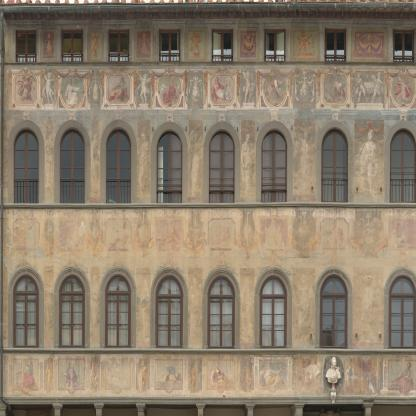Building Outline: (0, 1, 416, 416)
Cornice: (101, 20, 138, 26), (256, 18, 293, 24), (8, 20, 44, 26), (152, 19, 188, 25), (205, 19, 241, 25), (318, 18, 354, 24), (386, 19, 416, 25), (54, 21, 90, 26), (164, 109, 176, 122), (397, 109, 409, 121), (216, 109, 227, 122), (269, 109, 280, 122), (20, 110, 32, 121), (113, 109, 125, 120), (330, 109, 341, 121), (67, 110, 78, 120)
Deco: (7, 208, 416, 258), (7, 354, 416, 398), (7, 67, 416, 109), (354, 120, 384, 196), (293, 119, 316, 195), (188, 120, 203, 198), (241, 120, 256, 198), (137, 120, 150, 198), (355, 32, 385, 57), (45, 119, 54, 198), (91, 120, 100, 198), (295, 31, 316, 57), (241, 32, 256, 58), (188, 32, 203, 57), (137, 32, 151, 57), (44, 33, 54, 58), (91, 33, 101, 58)
Facade: (0, 1, 416, 416)
Floor: (0, 117, 416, 252), (0, 258, 416, 391), (0, 13, 416, 111)
Floor Slab: (0, 391, 416, 397), (0, 111, 416, 117), (0, 252, 416, 258)
Molding: (0, 8, 416, 20)
Window: (319, 274, 348, 349), (321, 127, 349, 203), (388, 274, 416, 349), (155, 274, 183, 349), (207, 275, 235, 349), (259, 275, 287, 349), (260, 129, 288, 203), (12, 127, 39, 203), (105, 127, 132, 203), (59, 127, 86, 203), (104, 274, 131, 349), (58, 274, 85, 349), (12, 274, 39, 348), (208, 129, 235, 203), (156, 129, 183, 203), (390, 128, 416, 203), (393, 27, 415, 61), (264, 28, 286, 61), (325, 27, 346, 61), (108, 29, 130, 61), (159, 29, 181, 61), (16, 29, 37, 62), (212, 28, 233, 61), (62, 29, 83, 61)
